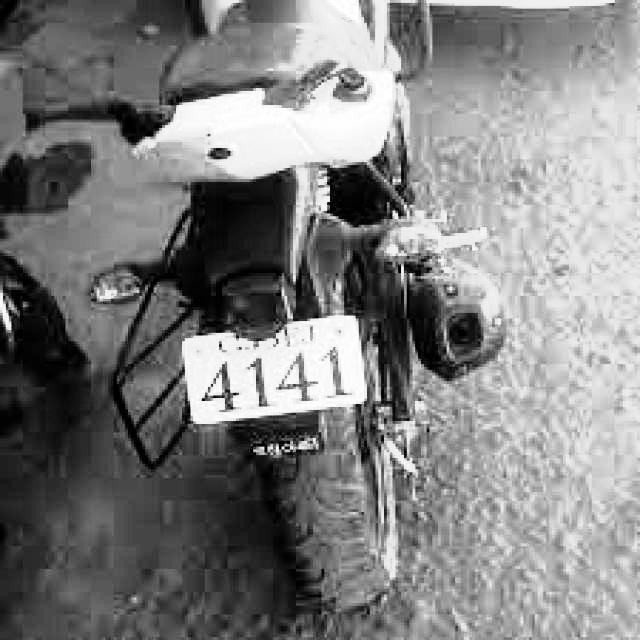Bike: (71, 3, 509, 640)
